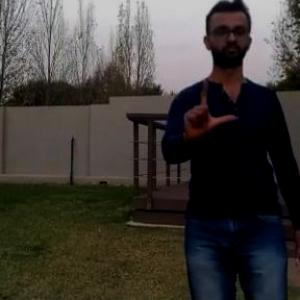land_hand: (171, 78, 232, 151)
